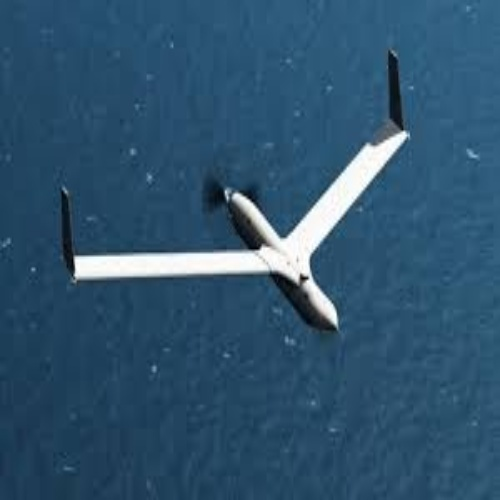uav: (59, 50, 412, 334)
